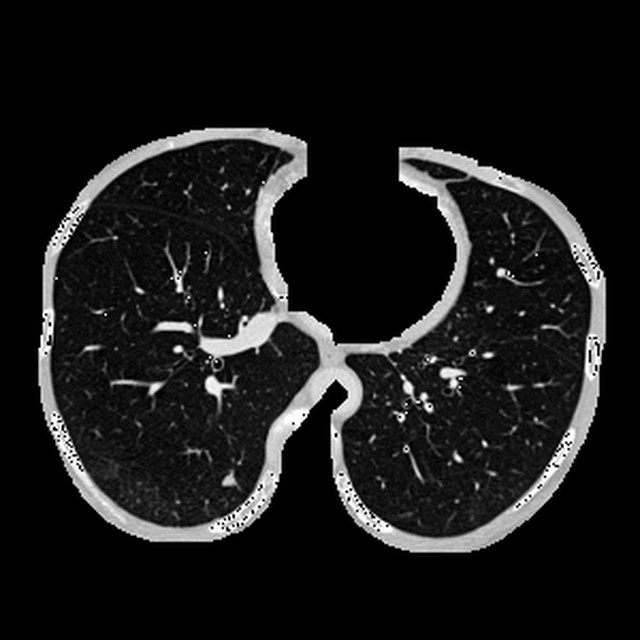PN: (224, 476, 233, 484)
